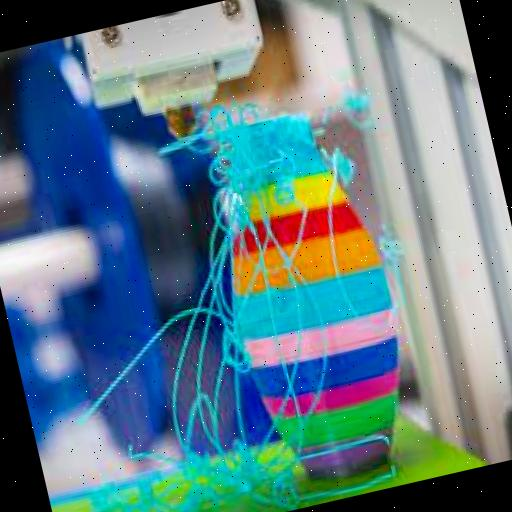spaghetti: (57, 188, 351, 512), (164, 88, 312, 211), (310, 82, 396, 192), (370, 218, 418, 288)
